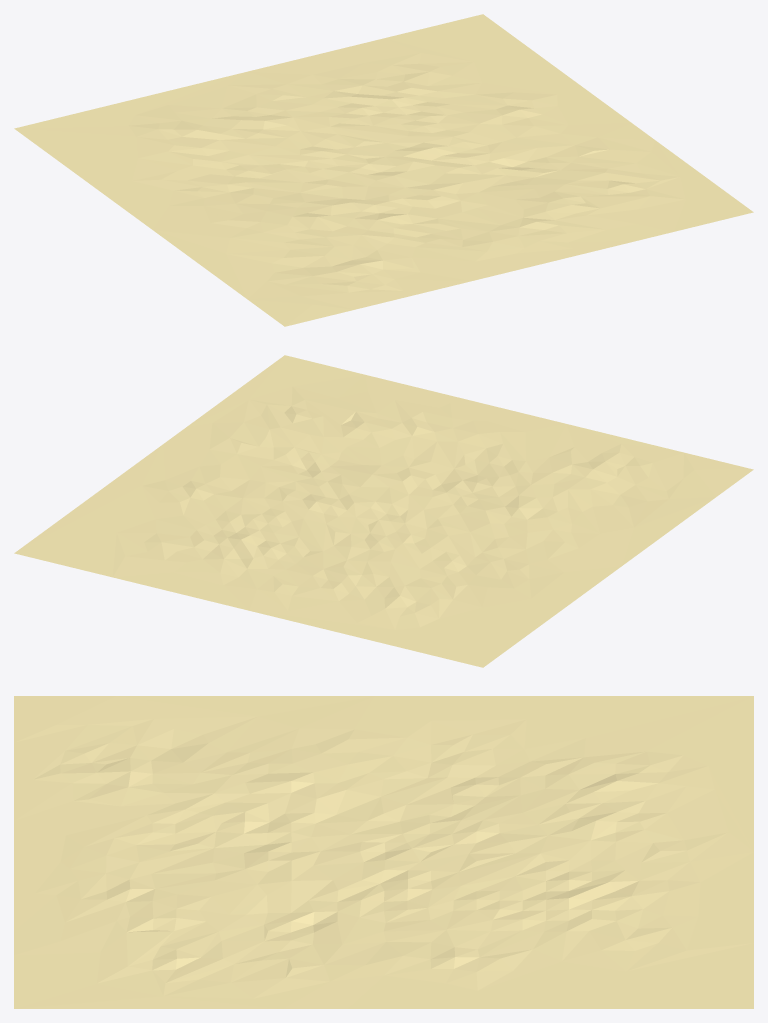
File: Terrain_s_02.fbx
3 views of the same model, one above another, from view 1: azimuth 30°, elevation 25°; view 2: azimuth 150°, elevation 25°; view 3: azimuth 270°, elevation 25° (orthographic). The views are drawn at different scales.
Parts seen in each view (by area): view 1: Terrain_s_02; view 2: Terrain_s_02; view 3: Terrain_s_02.
Boxes of the visible parts, left/top/right/bottom form: Terrain_s_02: left=14, top=14, right=753, bottom=326; Terrain_s_02: left=14, top=355, right=753, bottom=667; Terrain_s_02: left=14, top=696, right=753, bottom=1008.
Size of the model in its own units: 5000 by 62.15 by 5000.
